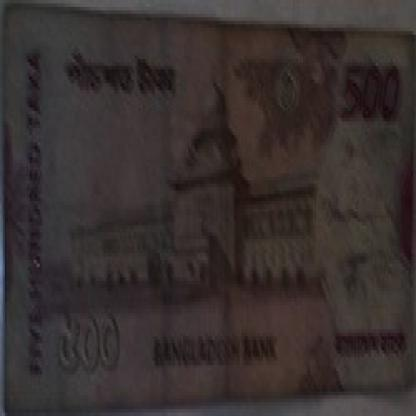500 taka: (65, 45, 195, 104), (50, 308, 130, 385)
currency: (7, 7, 414, 402)
